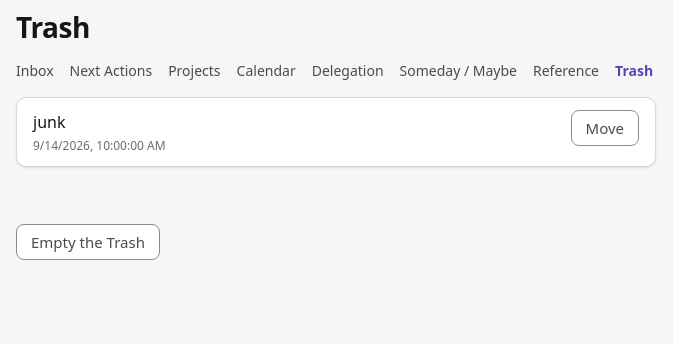
Test: emptying the Trash › empties the list once the discard is confirmed
Expected: the text "junk" is shown, 33,111 -> 66,133
Click the button "Empty the Trash" at (88, 242), box 16,224 -> 160,260
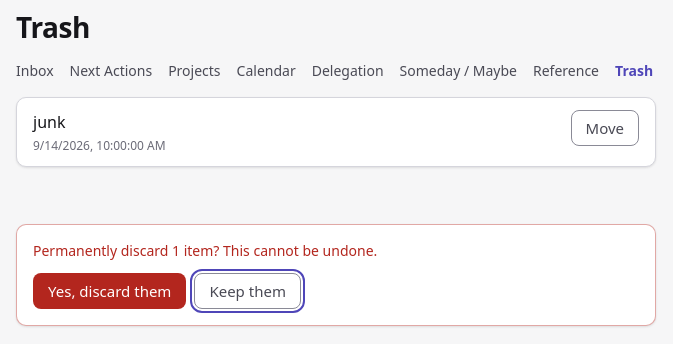
Click the button "Yes, discard them" at (110, 291), box 33,273 -> 186,309
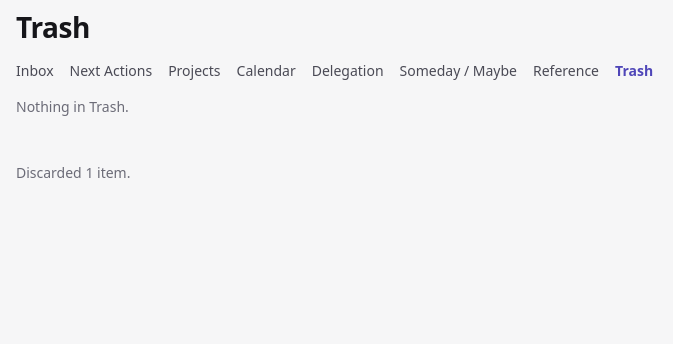
Now the text "junk" is gone
